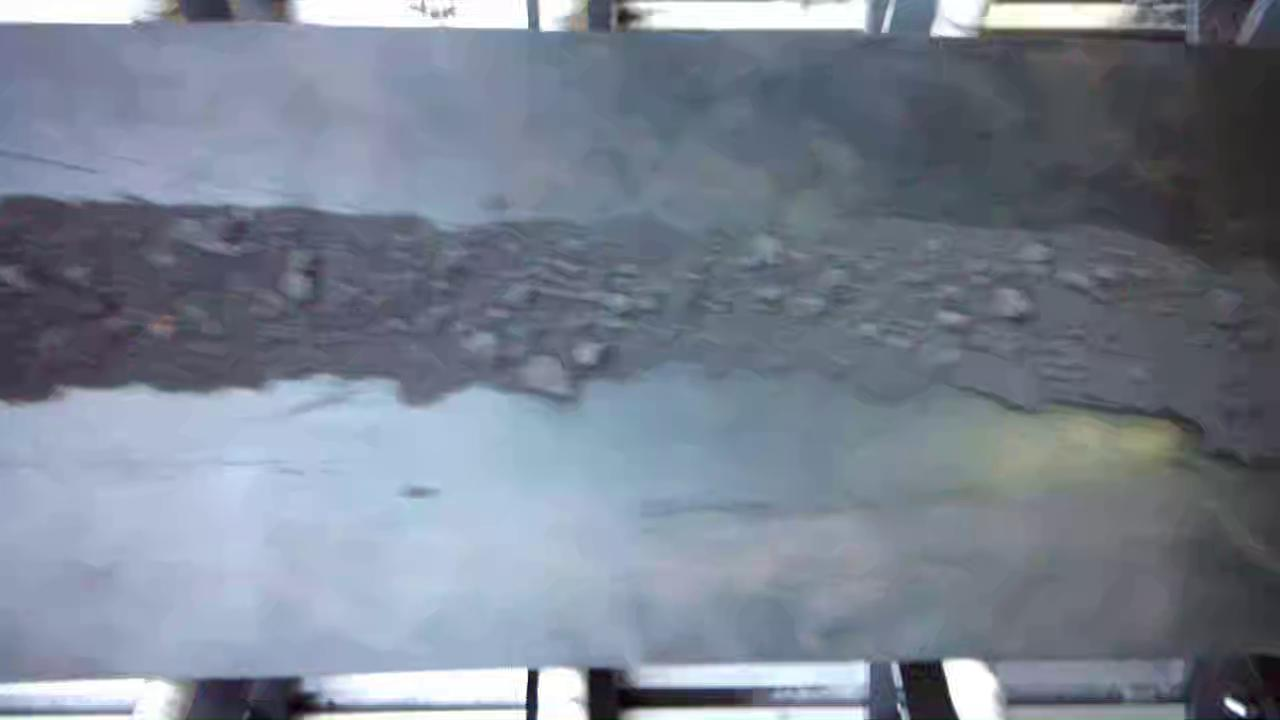conveyor: (3, 42, 1280, 646)
